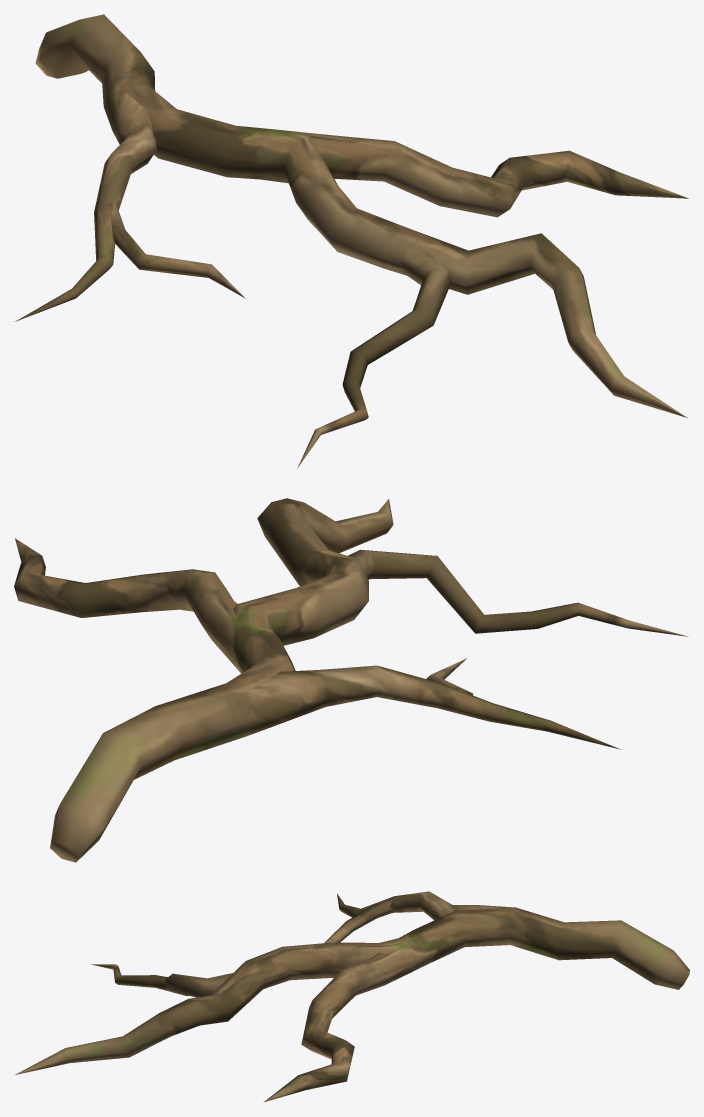
The model's file is P_OakRoots2.obj.
The picture shows the model from 3 angles, top to bottom: view 1: azimuth 30°, elevation 25°; view 2: azimuth 150°, elevation 25°; view 3: azimuth 270°, elevation 25°; orthographic projection. The views are drawn at different scales.
Size of the model in its own units: 7.3 by 1.55 by 9.64.
